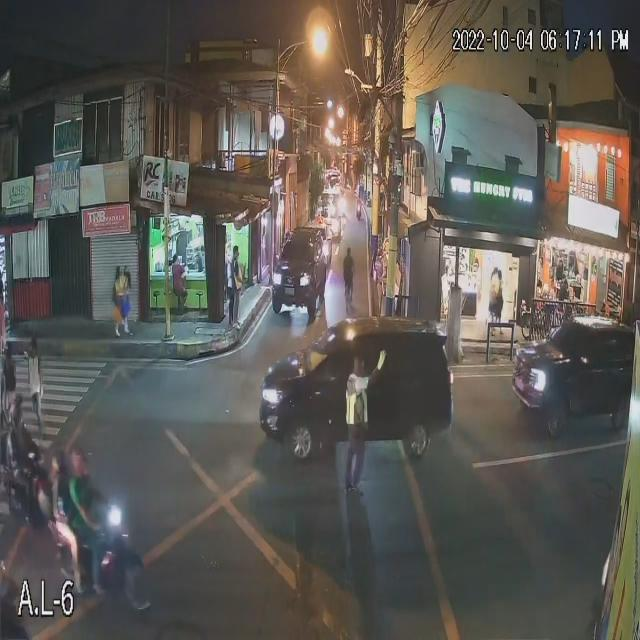helmet: (56, 450, 77, 475)
motorcycle: (48, 478, 150, 609), (0, 431, 65, 537)
rider: (3, 407, 44, 508), (73, 475, 97, 583)
